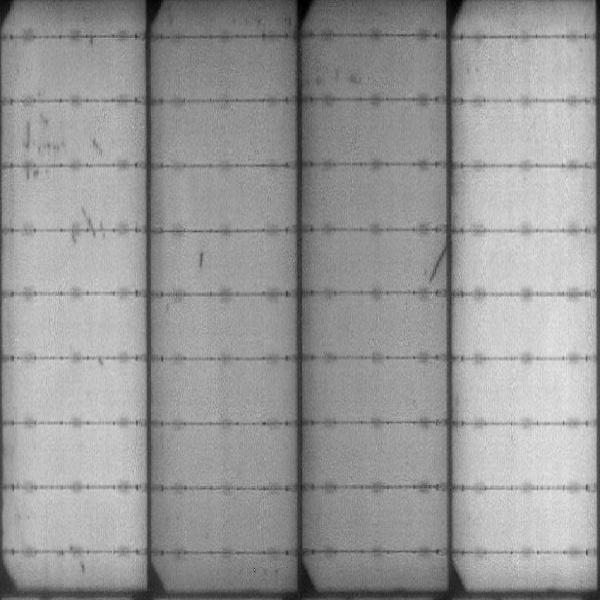scratch: (25, 110, 62, 184), (68, 210, 115, 243), (429, 245, 447, 285)
